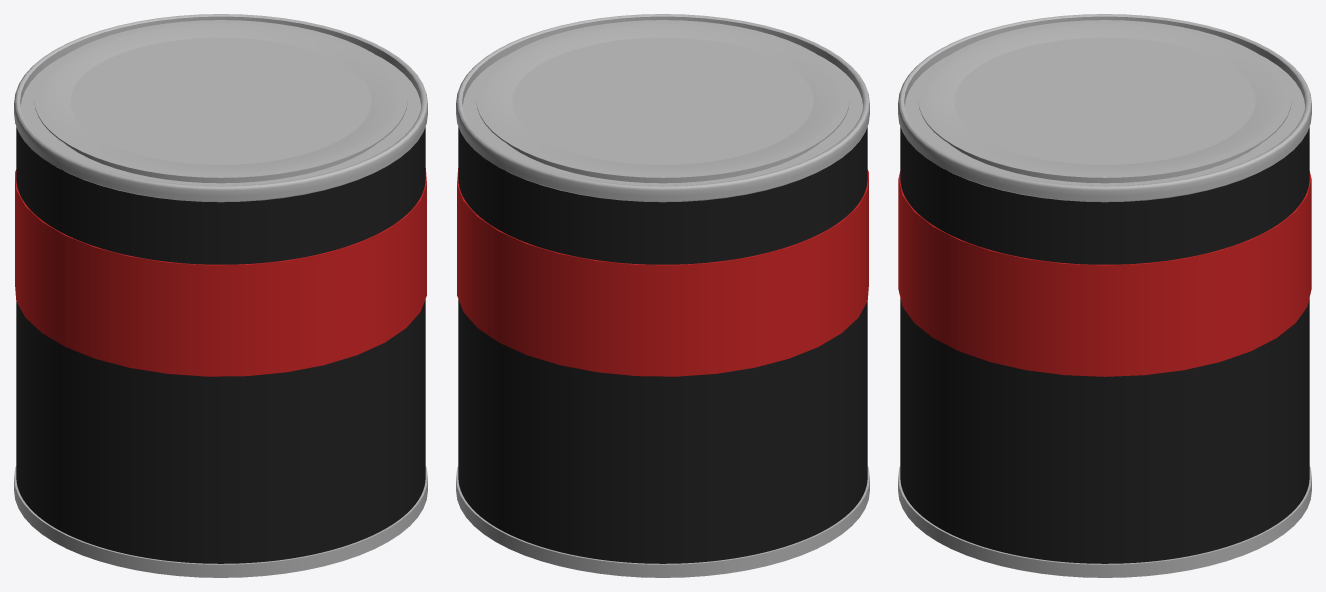
The model's file is tar_can.fbx.
3 renders of one model, left to right at view 1: azimuth 30°, elevation 25°; view 2: azimuth 150°, elevation 25°; view 3: azimuth 270°, elevation 25°, orthographic.
Visible parts, largest first — view 1: Cylinder, Cylinder.003, Cylinder.001, Plane, Cylinder.002; view 2: Cylinder, Cylinder.003, Cylinder.001, Plane, Cylinder.002; view 3: Cylinder, Cylinder.003, Cylinder.001, Plane, Cylinder.002.
Part boxes in pixels (x1,y1,x2,y2): Cylinder: [16, 127, 425, 563]; Cylinder.003: [15, 168, 426, 376]; Cylinder.001: [14, 14, 427, 202]; Plane: [70, 37, 371, 164]; Cylinder.002: [14, 466, 427, 577]; Cylinder: [458, 127, 867, 563]; Cylinder.003: [457, 168, 868, 376]; Cylinder.001: [456, 14, 869, 202]; Plane: [512, 37, 813, 164]; Cylinder.002: [456, 466, 869, 577]; Cylinder: [900, 127, 1309, 563]; Cylinder.003: [898, 171, 1311, 376]; Cylinder.001: [898, 14, 1311, 202]; Plane: [954, 37, 1255, 164]; Cylinder.002: [898, 466, 1311, 577].
Bounding box in the file's own units: 27.64 × 28.85 × 27.64.
